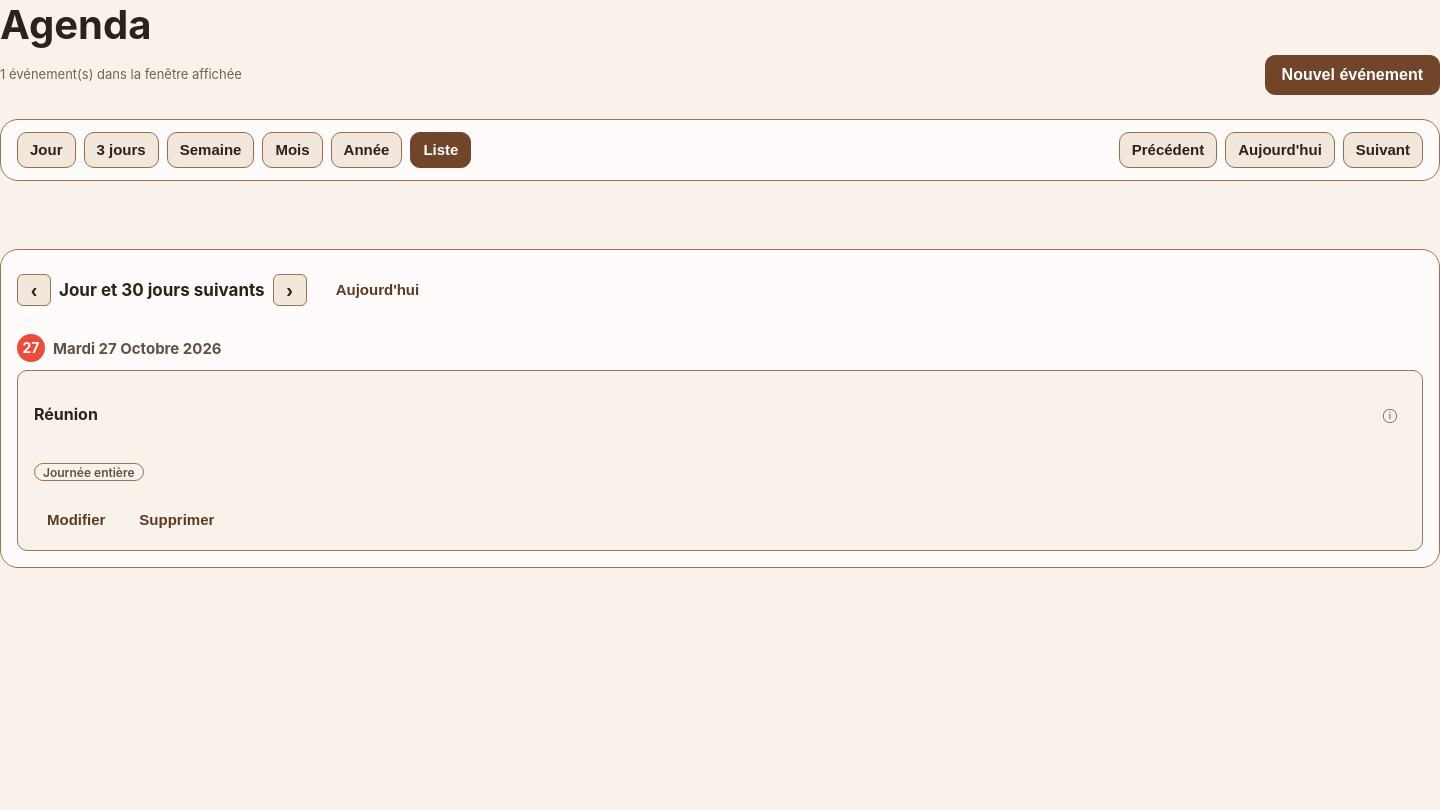
CalendarScreen — édition et suppression › supprime uniquement après confirmation explicite
Expected: the heading "Réunion" is shown, [34, 404, 98, 424]
Click the button with aria-label "Supprimer « Réunion »".
click(177, 520)  # box [126, 502, 227, 538]
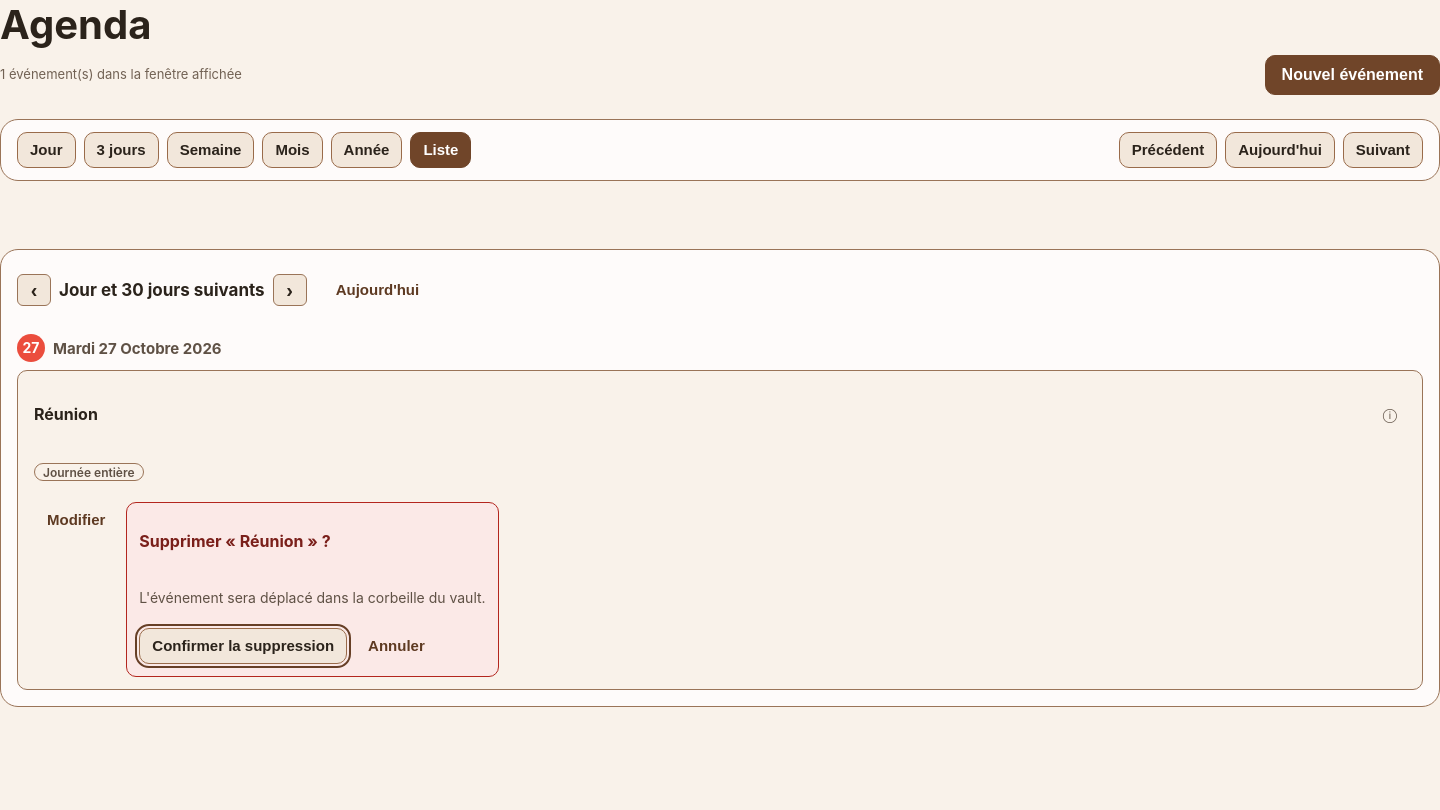
Expected: the dialog shows "Supprimer « Réunion » ?", [126, 502, 499, 677]
Click the button "Annuler".
click(396, 646)  # box [355, 628, 438, 664]
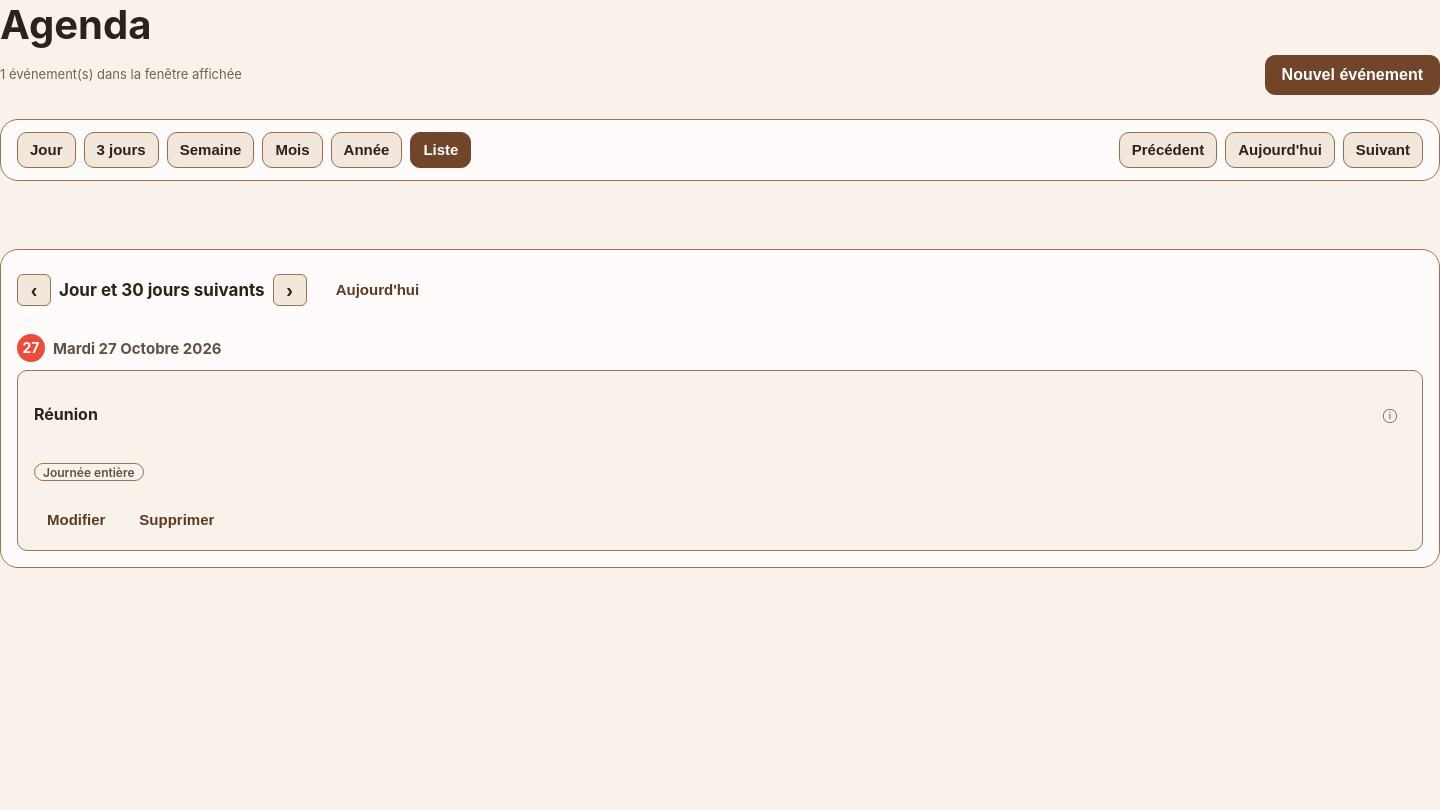
Expected: the heading "Réunion" is shown, [34, 404, 98, 424]
Expected: the dialog is gone
Click the button with aria-label "Supprimer « Réunion »".
click(177, 520)  # box [126, 502, 227, 538]
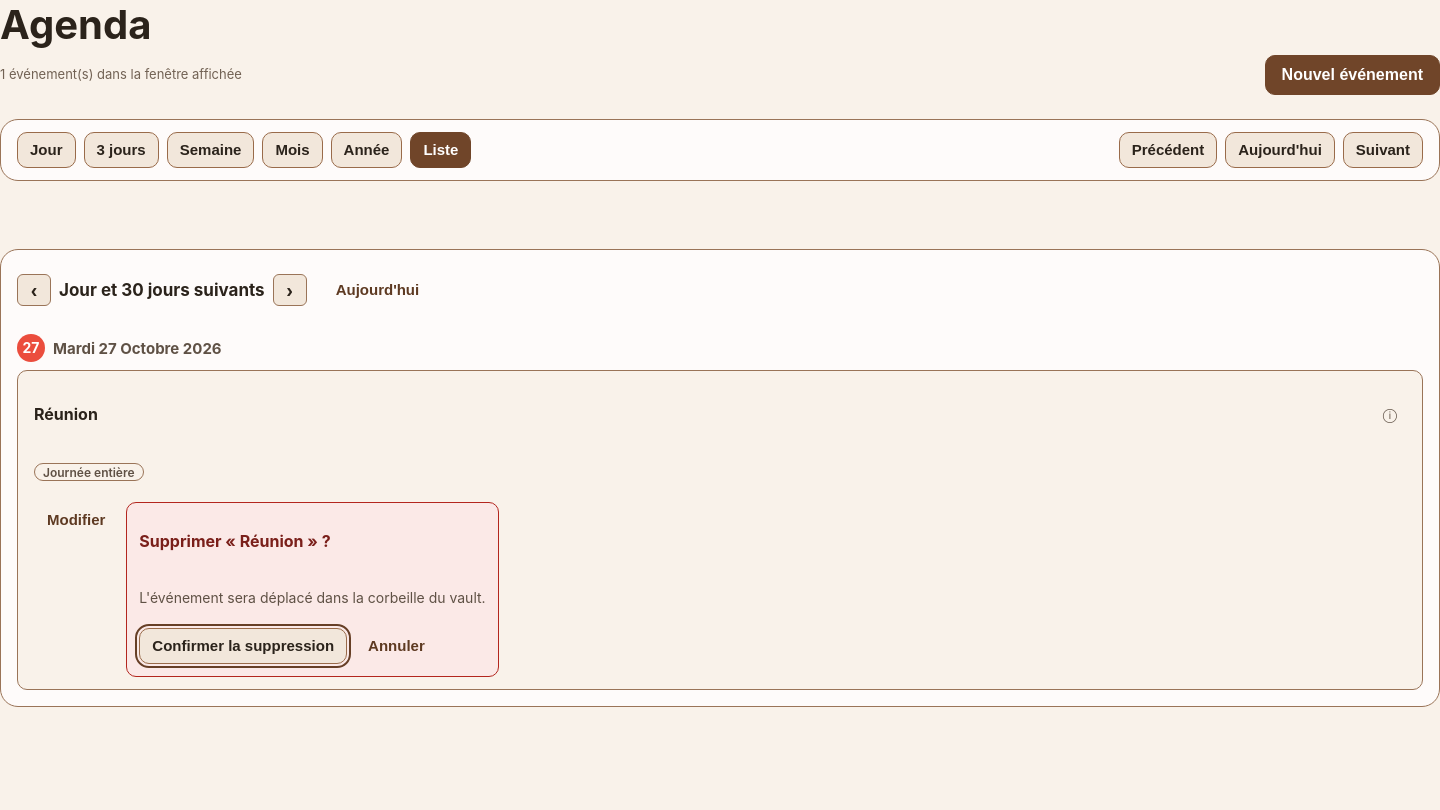
Click the button "Confirmer la suppression".
click(243, 646)  # box [139, 628, 347, 664]
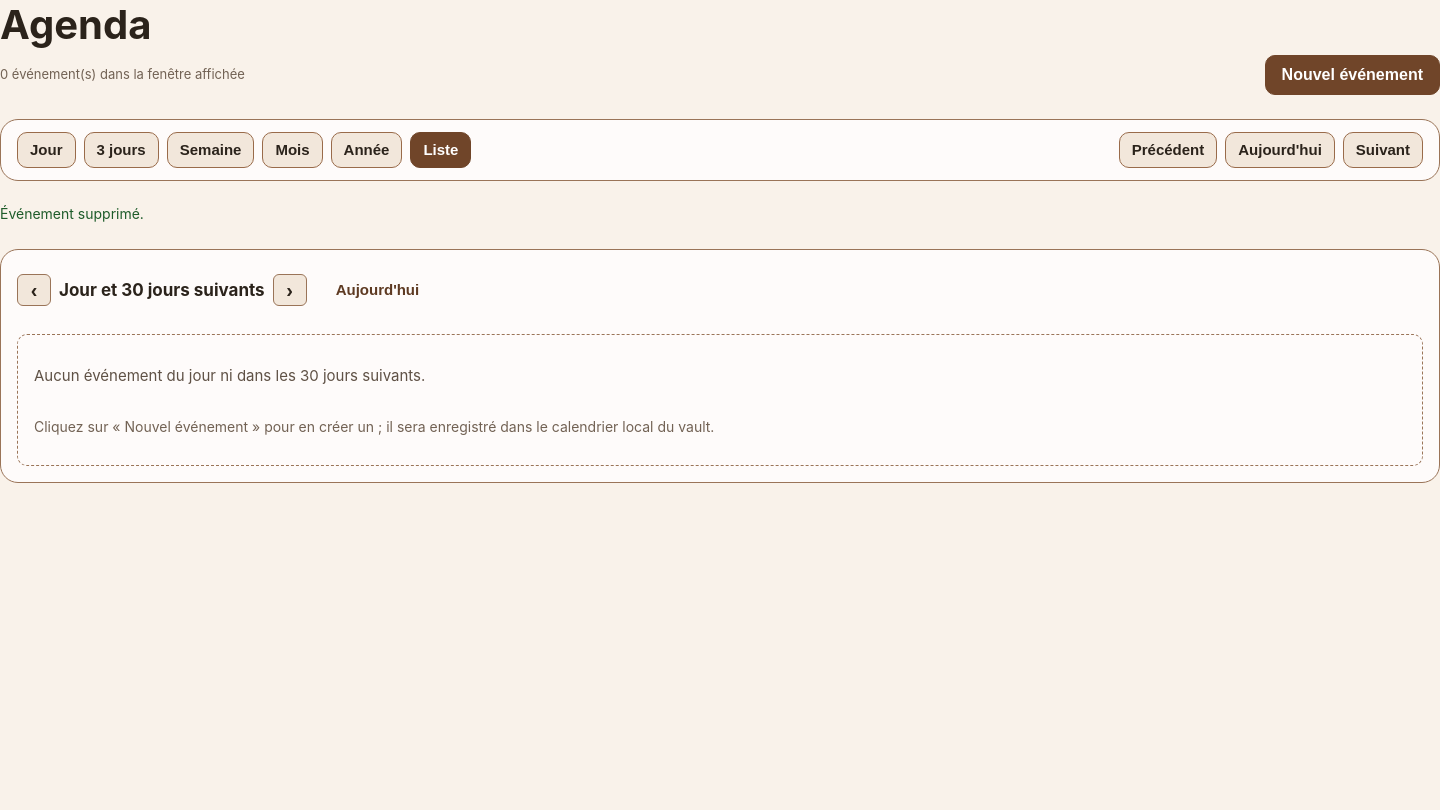
Expected: the text "Événement supprimé." is shown, [0, 205, 144, 222]
Expected: the heading "Réunion" is gone
